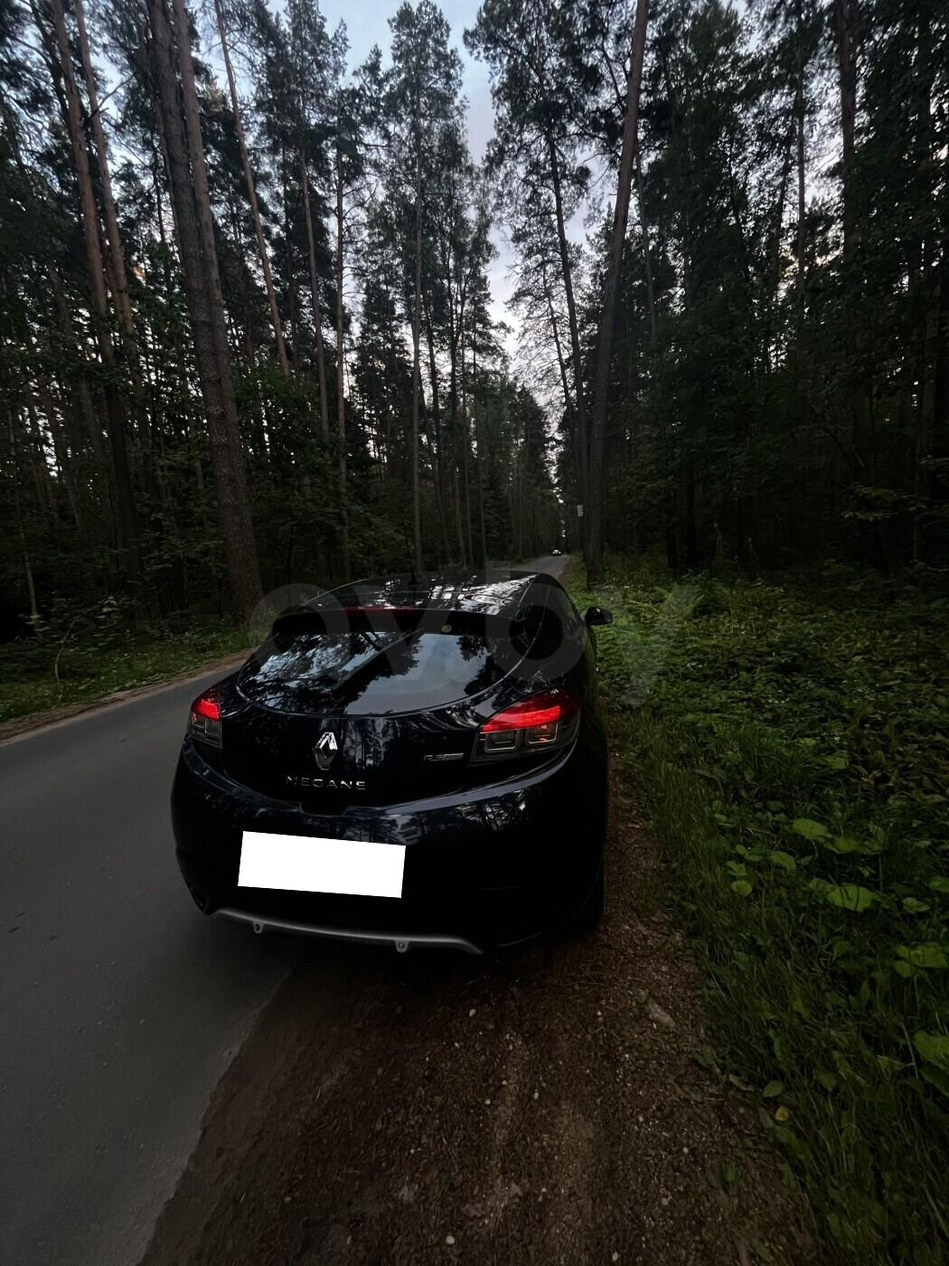Megane_2008-2014: (163, 570, 633, 980)
